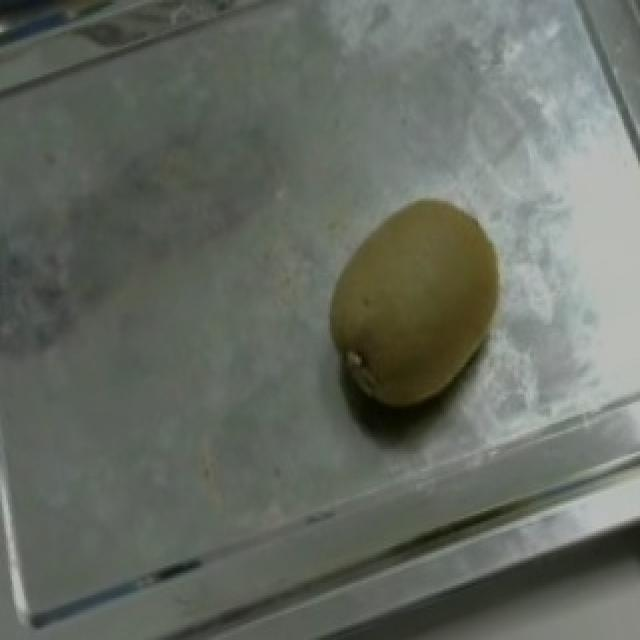Fruit: (290, 171, 538, 449)
